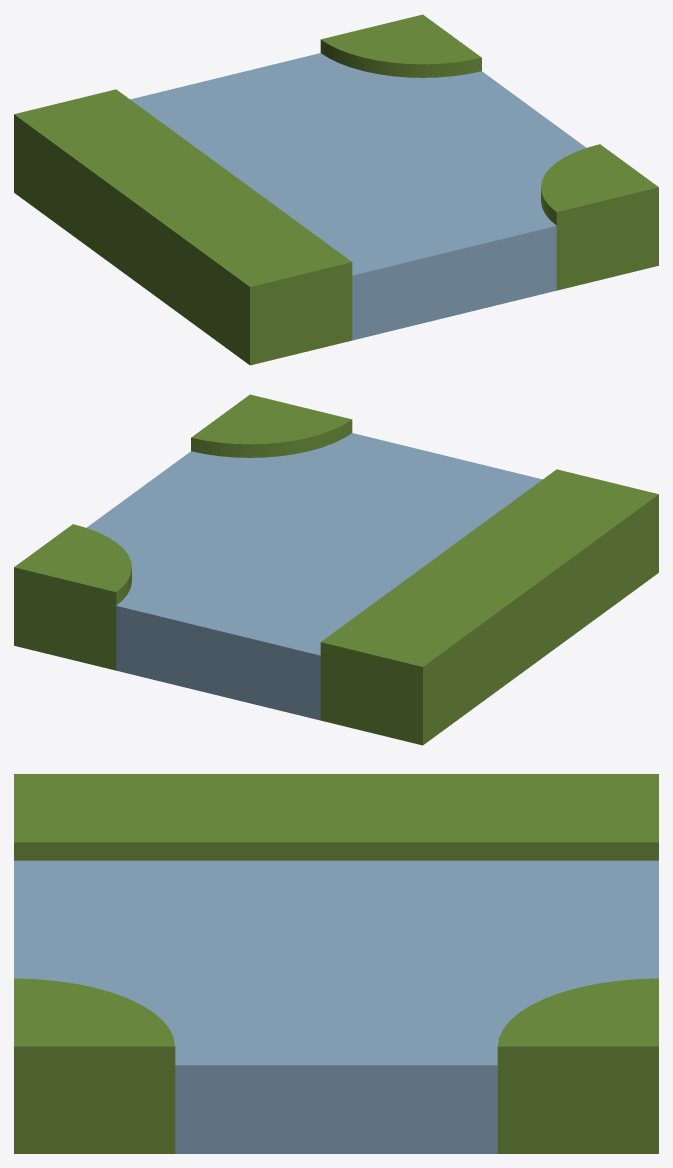
File: roadTile_178.obj
3 views of the same model, one above another, from view 1: azimuth 30°, elevation 25°; view 2: azimuth 150°, elevation 25°; view 3: azimuth 270°, elevation 25° (orthographic). The views are drawn at different scales.
Visible parts, largest first — view 1: Mesh1_Group1_Model.175; view 2: Mesh1_Group1_Model.175; view 3: Mesh1_Group1_Model.175.
Part boxes in pixels (x1=…): Mesh1_Group1_Model.175: x1=14, y1=14, x2=658, y2=365; Mesh1_Group1_Model.175: x1=14, y1=394, x2=658, y2=745; Mesh1_Group1_Model.175: x1=14, y1=774, x2=658, y2=1153.
Size of the model in its own units: 3 by 0.55 by 3.
